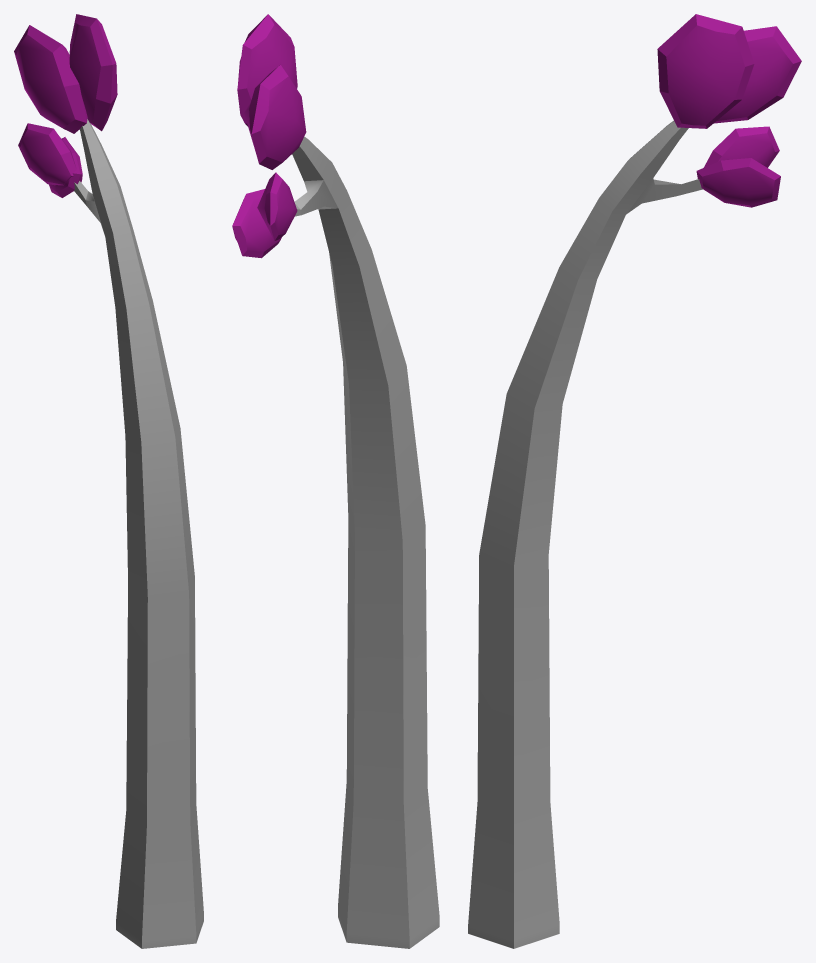
File: beansprout.fbx
3 renders of one model, left to right at view 1: azimuth 30°, elevation 25°; view 2: azimuth 150°, elevation 25°; view 3: azimuth 270°, elevation 25°, orthographic. The views are drawn at different scales.
Visible parts, largest first — view 1: cyl, polySurface40, polySurface41, polySurface42, polySurface43; view 2: cyl, polySurface40, polySurface41, polySurface43, polySurface42; view 3: cyl, polySurface41, polySurface40, polySurface43, polySurface42.
Part boxes in pixels (bbox=[...]): cyl: bbox=[74, 119, 203, 948]; polySurface40: bbox=[14, 25, 87, 133]; polySurface41: bbox=[69, 14, 117, 131]; polySurface42: bbox=[18, 123, 76, 185]; polySurface43: bbox=[49, 137, 82, 197]; cyl: bbox=[292, 136, 439, 948]; polySurface40: bbox=[244, 64, 306, 169]; polySurface41: bbox=[237, 14, 297, 126]; polySurface43: bbox=[232, 189, 281, 258]; polySurface42: bbox=[257, 172, 297, 240]; cyl: bbox=[468, 120, 702, 948]; polySurface41: bbox=[657, 14, 754, 128]; polySurface40: bbox=[714, 26, 801, 123]; polySurface43: bbox=[696, 158, 780, 207]; polySurface42: bbox=[704, 126, 779, 167].
Bounding box in the file's own units: 11.83 × 128 × 41.83.
